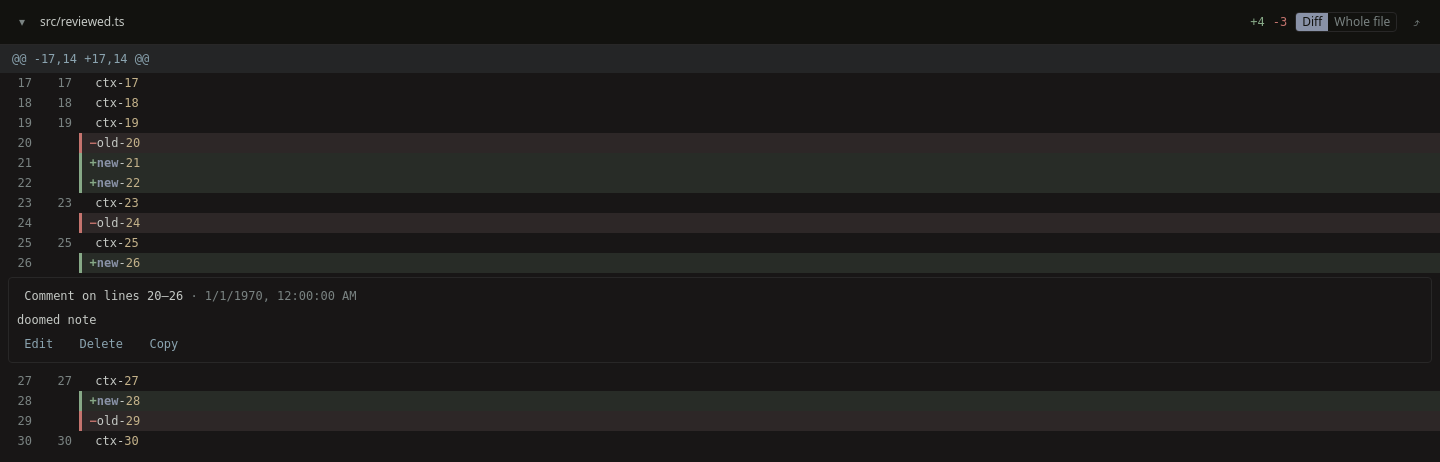
Test: SidebarDiffView inline comment threads › Delete removes the thread
Check: the number of rows with test id "diff-comment-thread" is 1, box [0, 273, 1439, 371]
Click the button with test id "diff-comment-delete" at (101, 344), box [72, 334, 130, 354]
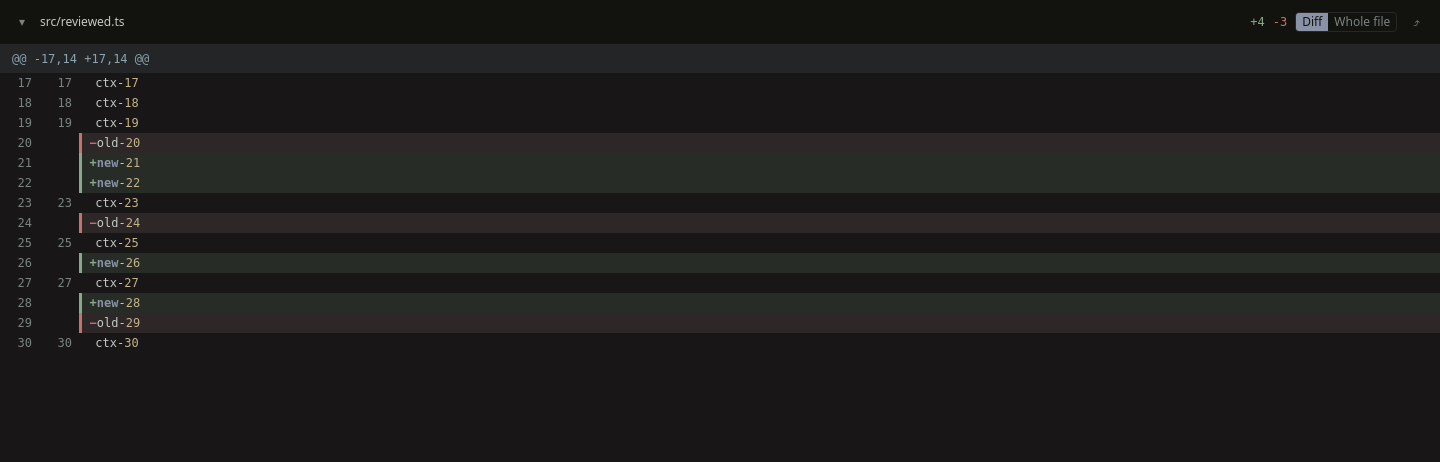
Check: no rows with test id "diff-comment-thread" are shown
